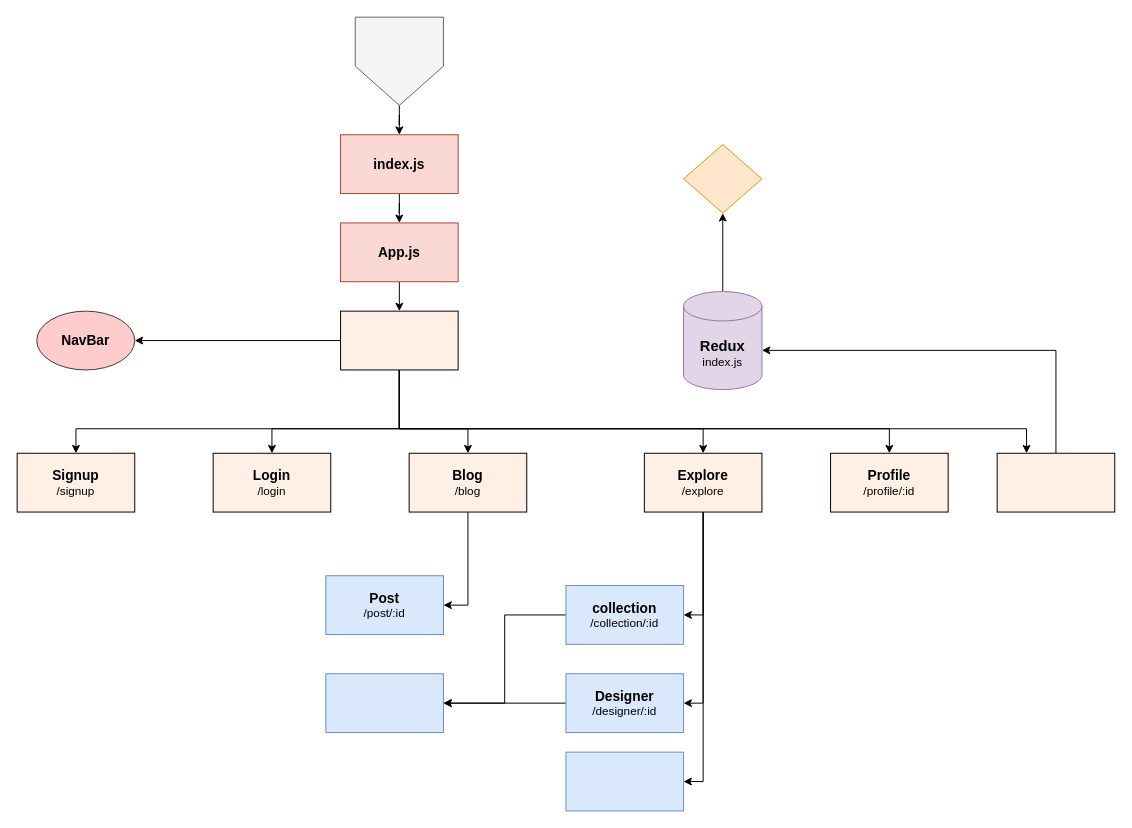
This 1132x828 diagram has some shape labels left out. The box of each missing label's shape, as (x1, y1, x2, y2) in pixels:
Dashboard /dashboard: (996, 452, 1115, 512)
DirectMessage /dm/:id: (325, 673, 443, 733)
Home /: (340, 310, 458, 370)
HTML index.html: (354, 16, 443, 105)
Login: (683, 144, 762, 213)
Material /material/:id: (565, 751, 684, 811)
